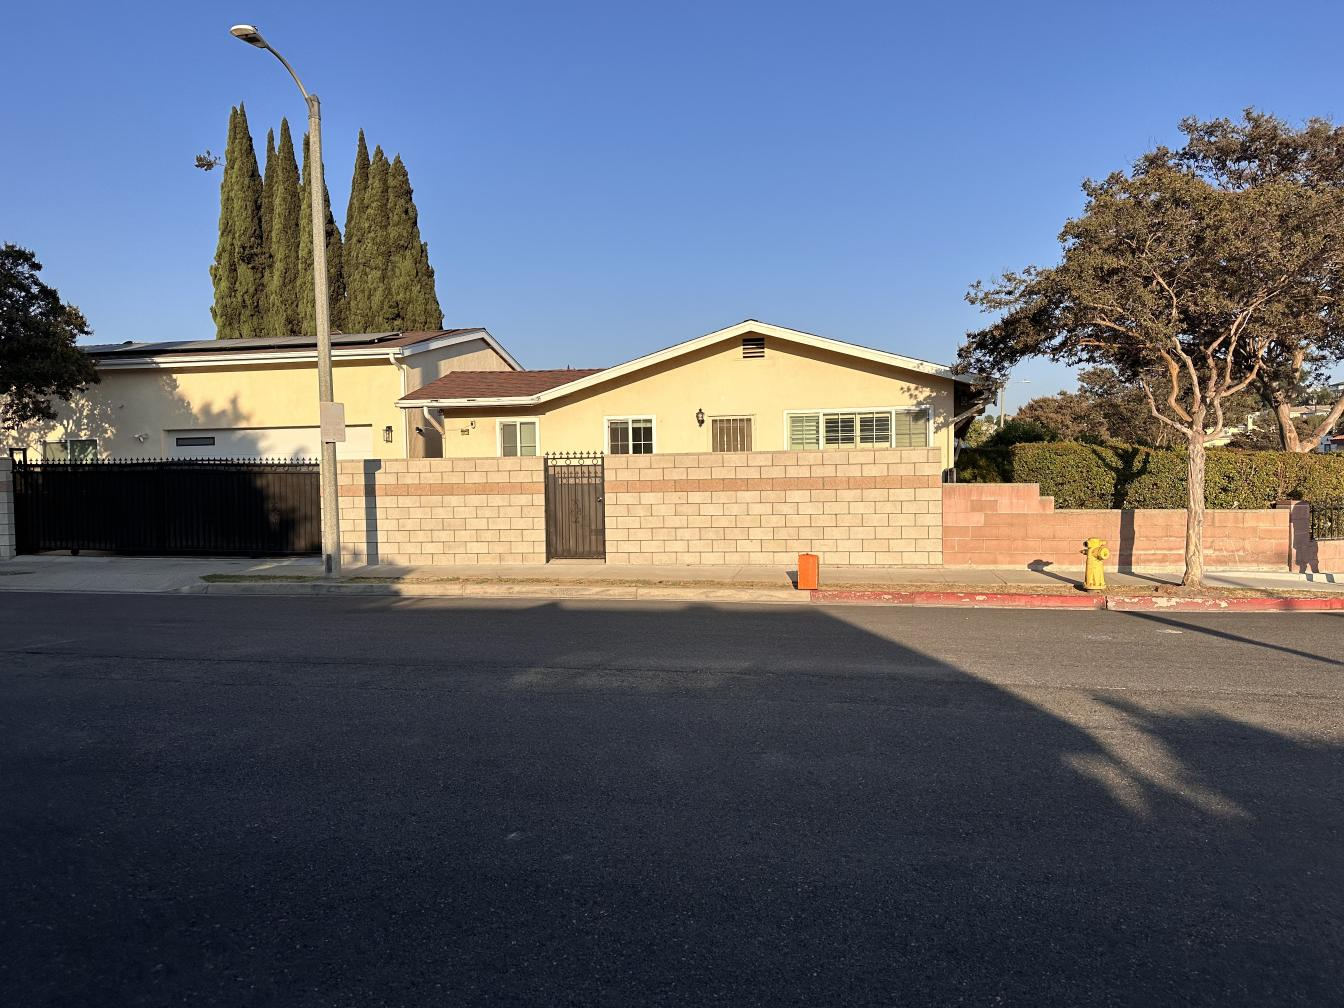curbs-laRr: (196, 583, 812, 608)
orange box: (795, 551, 820, 590)
